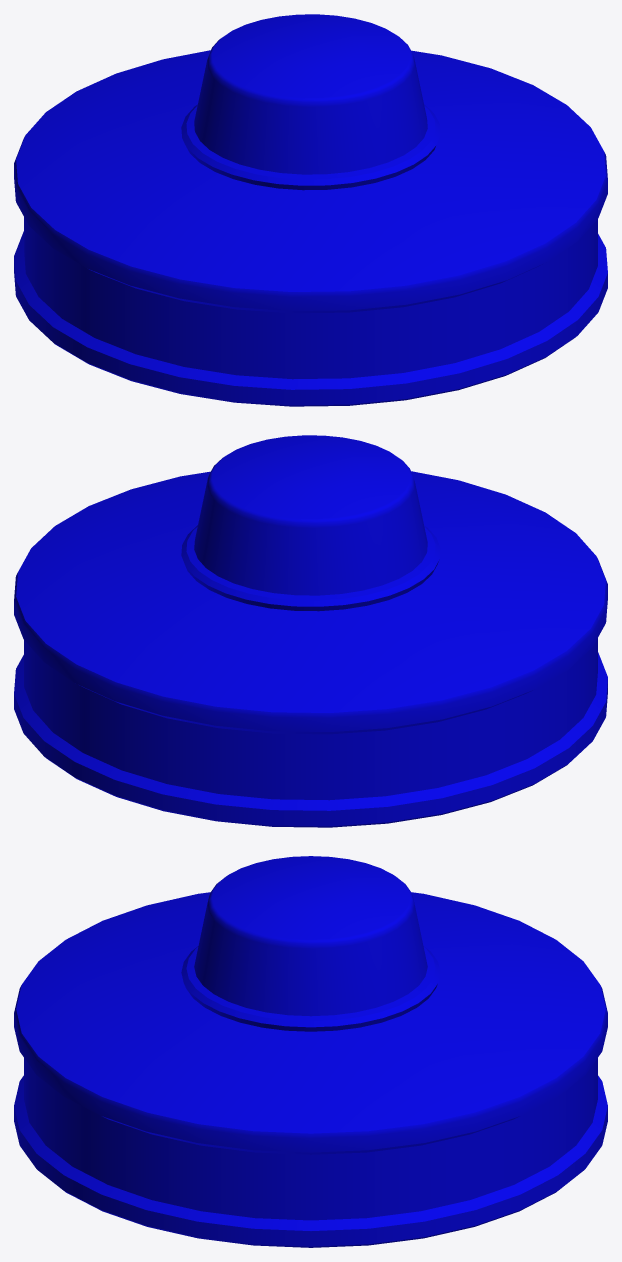
Rendered from SM_Pulley_Magnet.fbx.
The picture shows the model from 3 angles, top to bottom: view 1: azimuth 30°, elevation 25°; view 2: azimuth 150°, elevation 25°; view 3: azimuth 270°, elevation 25°; orthographic projection.
Visible parts, largest first — view 1: pCylinder1; view 2: pCylinder1; view 3: pCylinder1.
Boxes of the visible parts, x1,y1,x2,y2 form: pCylinder1: (14, 14, 607, 406); pCylinder1: (14, 435, 607, 827); pCylinder1: (14, 856, 607, 1247).
Bounding box in the file's own units: 48.03 × 22.2 × 48.03.
